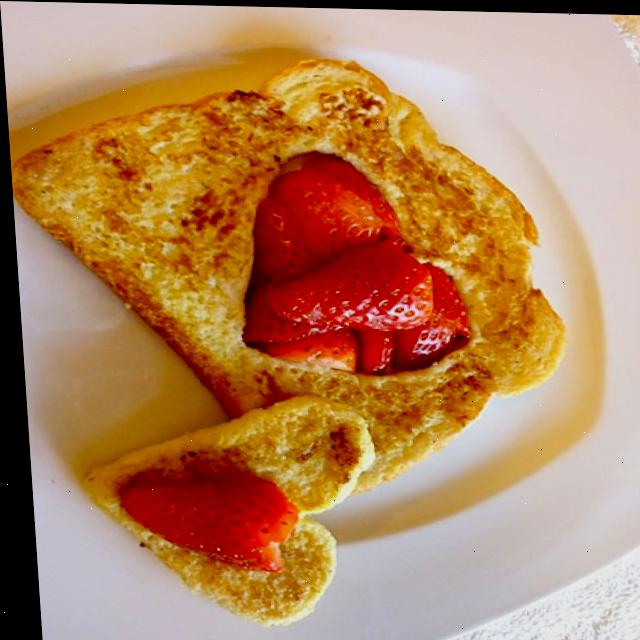面包点心: (1, 18, 598, 640)
